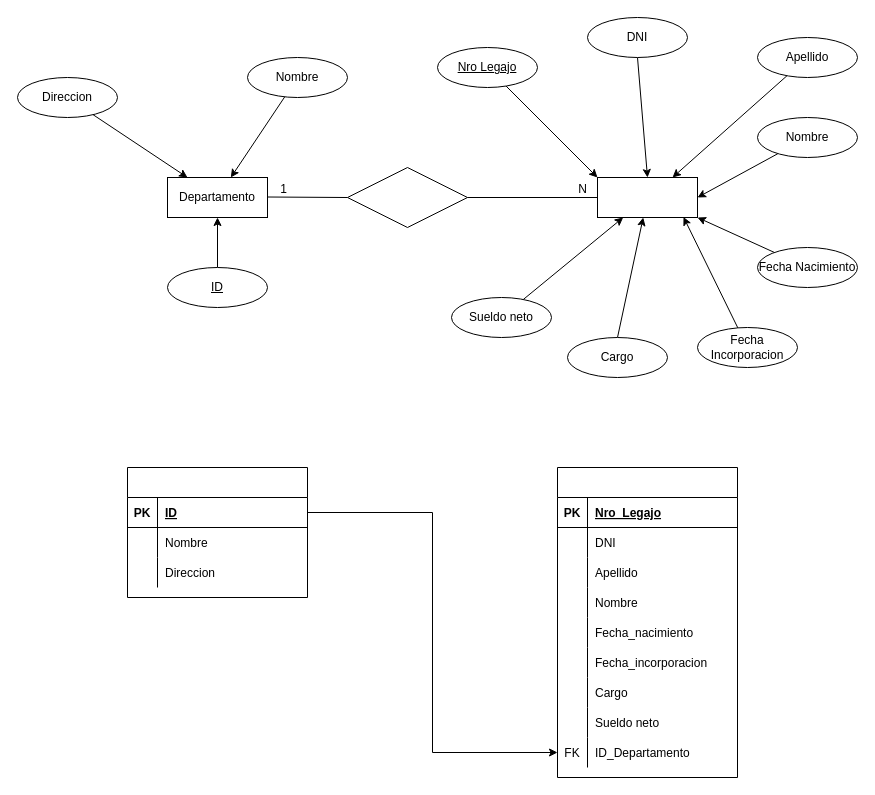
Image size: 875x795. Some labels were removed from this diagram. The shapes that lost their labels are listed below. From the top down, each one's box as (x1, y1, x2, y2) in pixels, then its label:
(346, 166, 468, 228): Pertenencia
(596, 176, 698, 218): Empleado
(126, 466, 308, 598): departments
(556, 466, 738, 778): employees
